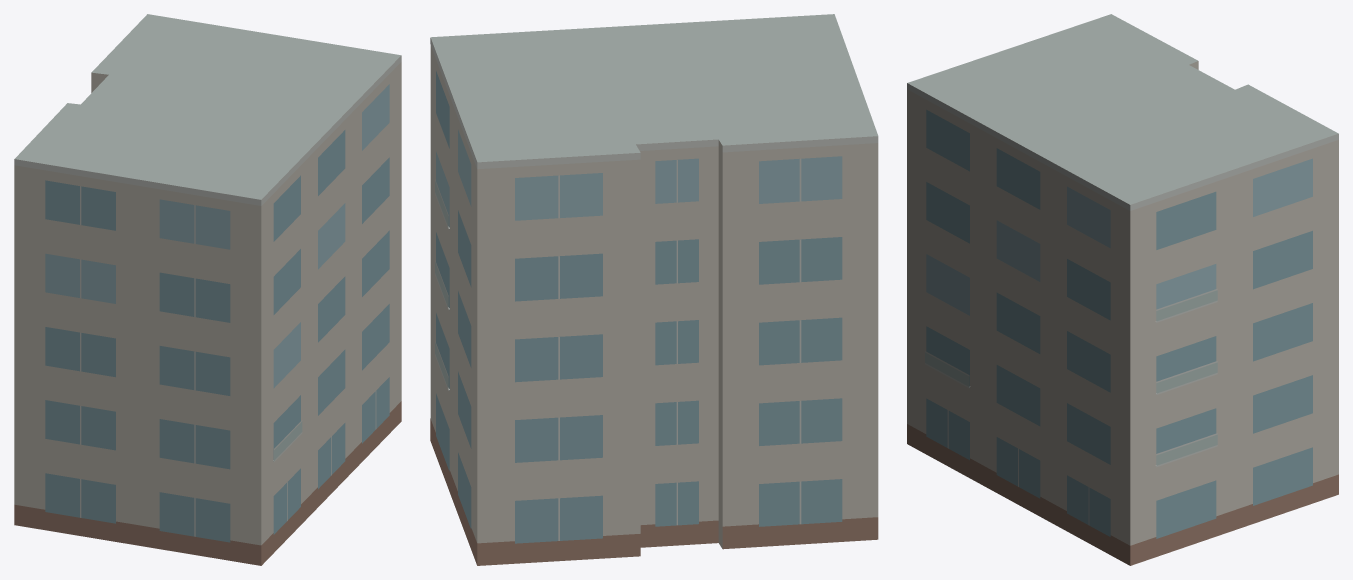
Rendered from survey-upis-32745100.glb.
The picture shows the model from 3 angles, left to right: view 1: azimuth 30°, elevation 25°; view 2: azimuth 150°, elevation 25°; view 3: azimuth 270°, elevation 25°; orthographic projection. The views are drawn at different scales.
Parts seen in each view (by area): view 1: survey-upis-32745100.tmp; view 2: survey-upis-32745100.tmp; view 3: survey-upis-32745100.tmp.
Boxes of the visible parts, x1=… form: survey-upis-32745100.tmp: x1=14, y1=14, x2=401, y2=565; survey-upis-32745100.tmp: x1=430, y1=14, x2=878, y2=565; survey-upis-32745100.tmp: x1=907, y1=14, x2=1338, y2=565.
Size of the model in its own units: 16.28 by 14.35 by 15.56.
